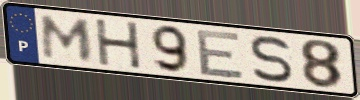8: (298, 37, 347, 90)
9: (147, 24, 191, 75)
E: (195, 28, 247, 80)
H: (92, 18, 144, 71)
M: (41, 13, 95, 63)
S: (248, 34, 295, 85)
